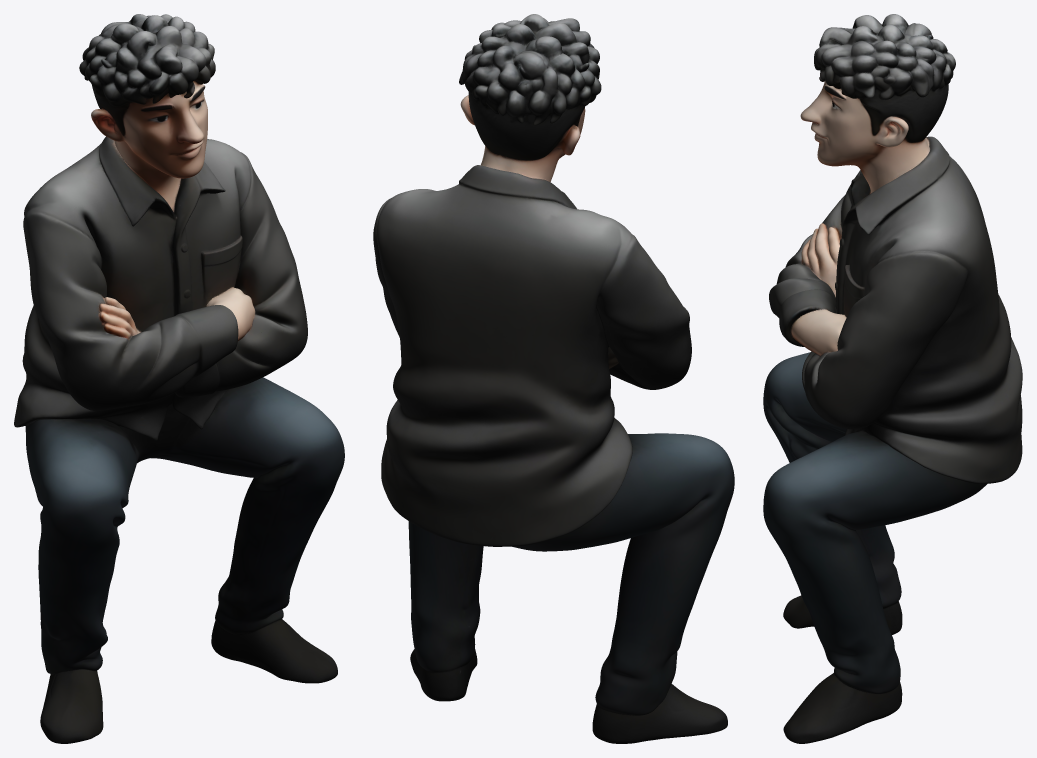
Rendered from AqbilUnity.fbx.
3 views of the same model, side by side, from view 1: azimuth 30°, elevation 25°; view 2: azimuth 150°, elevation 25°; view 3: azimuth 270°, elevation 25° (orthographic). The views are drawn at different scales.
Visible parts, largest first — view 1: tripo_node_d36b546a; view 2: tripo_node_d36b546a; view 3: tripo_node_d36b546a.
Part boxes in pixels (x1,y1,x2,y2): tripo_node_d36b546a: (14,14,344,743); tripo_node_d36b546a: (373,14,734,743); tripo_node_d36b546a: (763,14,1022,743).
Size of the model in its own units: 0.4606 by 1 by 0.3592.
